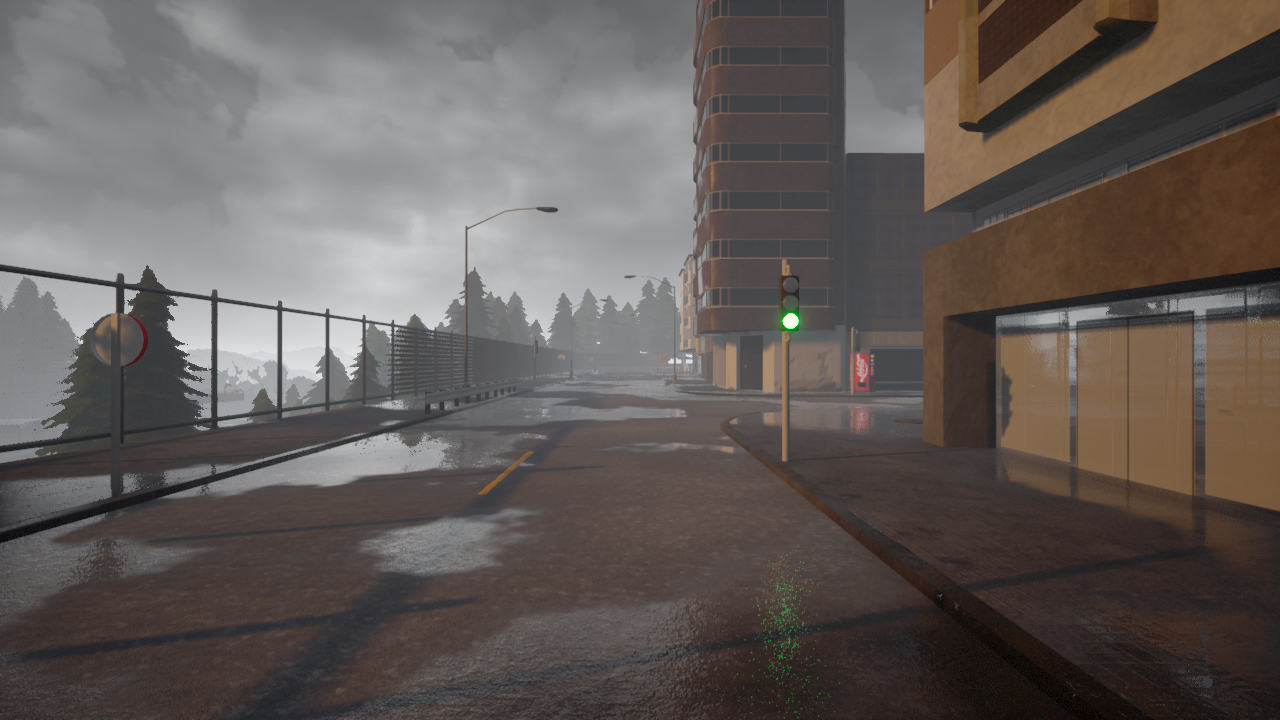green: (778, 273, 801, 333)
